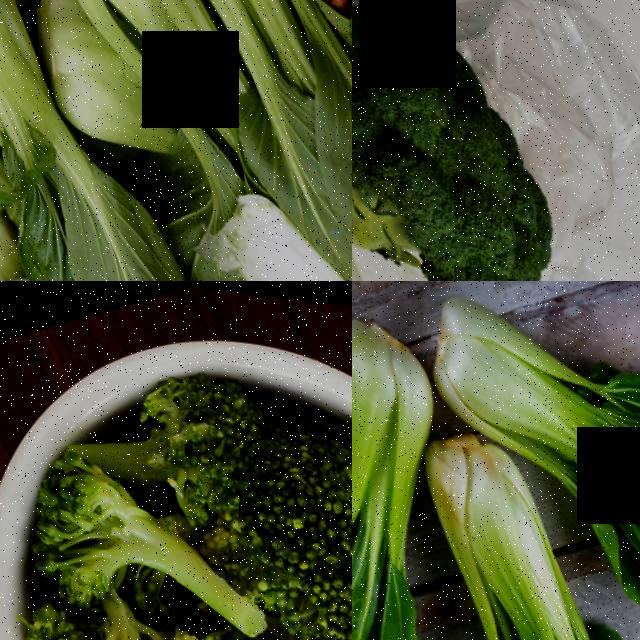bok choy: (55, 0, 318, 281), (0, 0, 196, 281), (159, 0, 352, 281), (405, 417, 640, 640), (477, 281, 640, 587), (352, 281, 483, 640)
broccoli: (352, 0, 603, 281), (157, 314, 352, 592), (4, 405, 209, 640), (50, 602, 195, 640)
